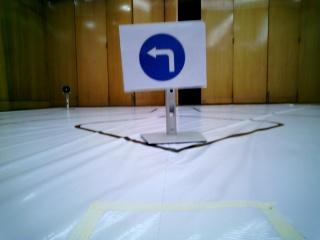left: (128, 29, 200, 89)
